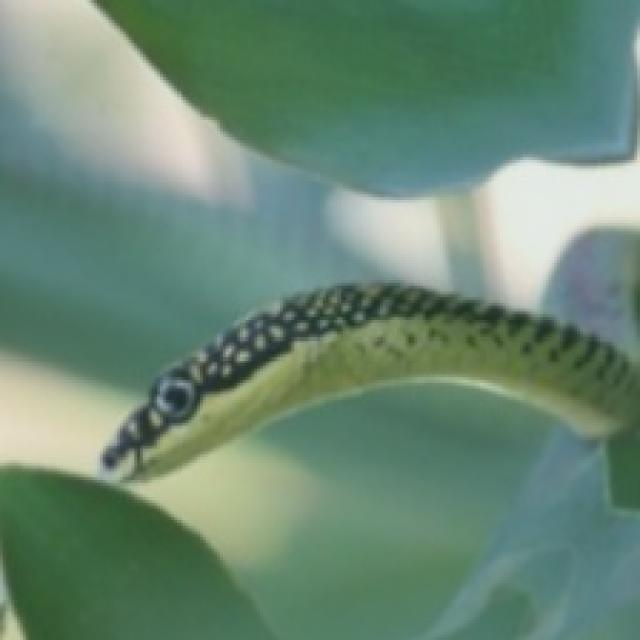paradise tree snake: (100, 283, 637, 480)
